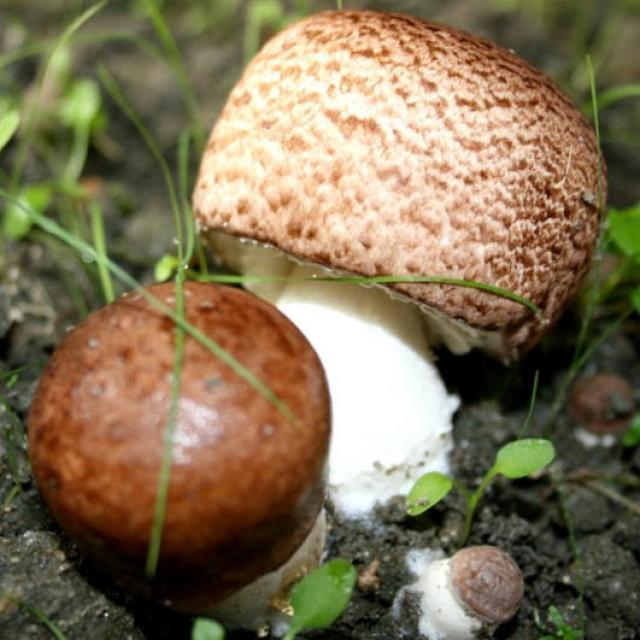Agaricus blazei Murill: (195, 10, 600, 508), (31, 277, 333, 596)
